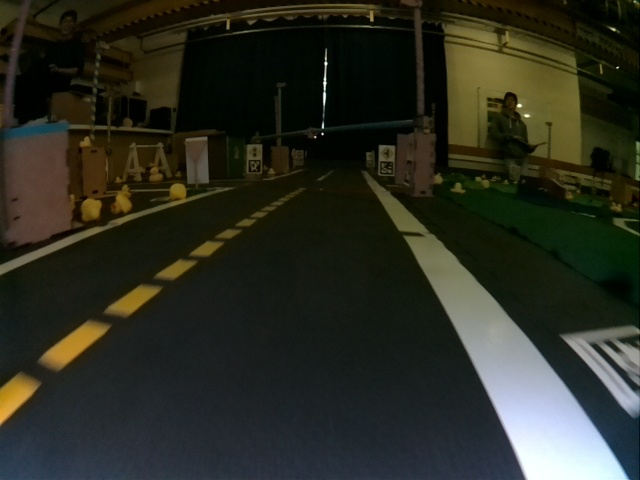Duckie: (80, 200, 101, 218), (111, 196, 130, 213), (169, 184, 185, 199), (79, 136, 90, 146)
Intersection sign: (379, 146, 395, 160)
QR code: (379, 162, 395, 175), (247, 159, 261, 173)
Signal sign: (247, 145, 260, 158)
